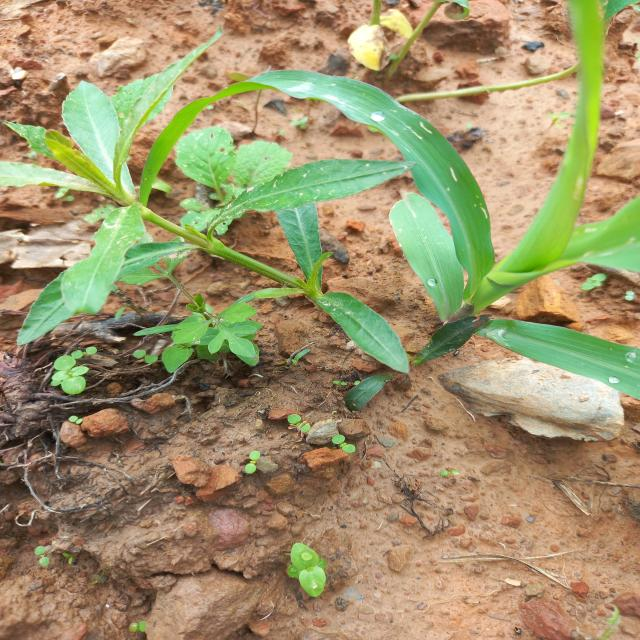maize: (401, 50, 640, 384)
weed: (13, 75, 358, 373)
